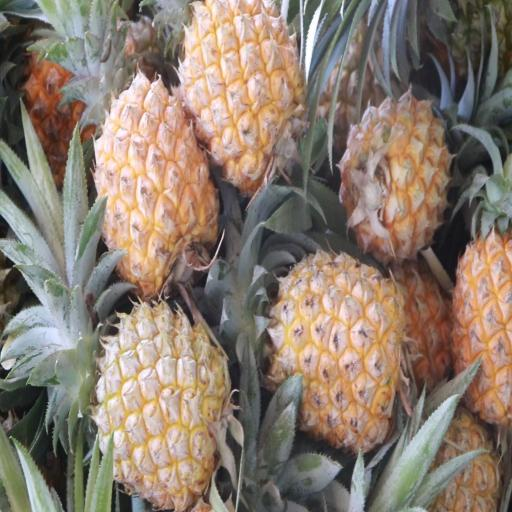Pineapple - v8 v1: (94, 80, 220, 292), (96, 302, 228, 503), (274, 254, 404, 450), (178, 1, 304, 174), (343, 91, 450, 254), (451, 228, 512, 420)
